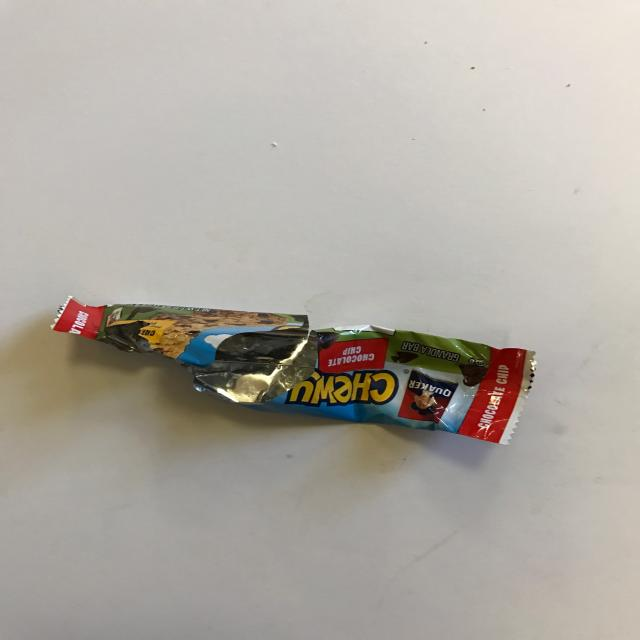Trash: (50, 295, 538, 445)
